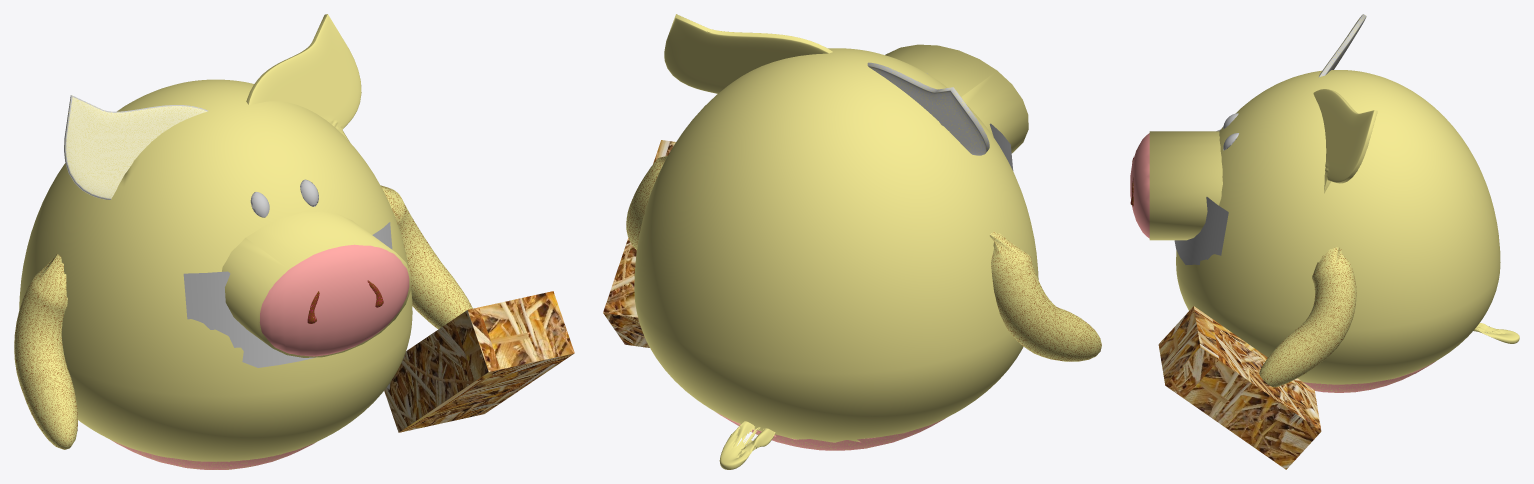
File: brown_pig_brick.dae
3 renders of one model, left to right at view 1: azimuth 30°, elevation 25°; view 2: azimuth 150°, elevation 25°; view 3: azimuth 270°, elevation 25°, orthographic. The views are drawn at different scales.
Parts seen in each view (by area): view 1: group_0 (×11), SketchUp, group_1; view 2: group_0 (×8), group_1 (×2), SketchUp; view 3: group_0 (×9), SketchUp, group_1.
Boxes of the visible parts, left/top/right/bottom form: group_0 (×11): left=14, top=79, right=472, bottom=469; SketchUp: left=384, top=291, right=574, bottom=432; group_1: left=246, top=14, right=361, bottom=141; group_0 (×8): left=626, top=44, right=1101, bottom=469; group_1 (×2): left=664, top=14, right=832, bottom=93; SketchUp: left=603, top=140, right=675, bottom=347; group_0 (×9): left=1130, top=14, right=1519, bottom=392; SketchUp: left=1158, top=306, right=1321, bottom=469; group_1: left=1313, top=89, right=1377, bottom=193.
Bounding box in the file's own units: 37.49 × 32.78 × 29.86.
